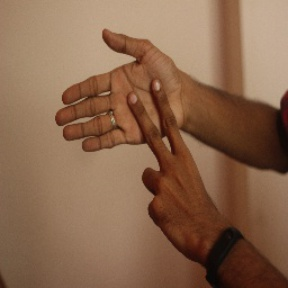N: (52, 26, 209, 198)
